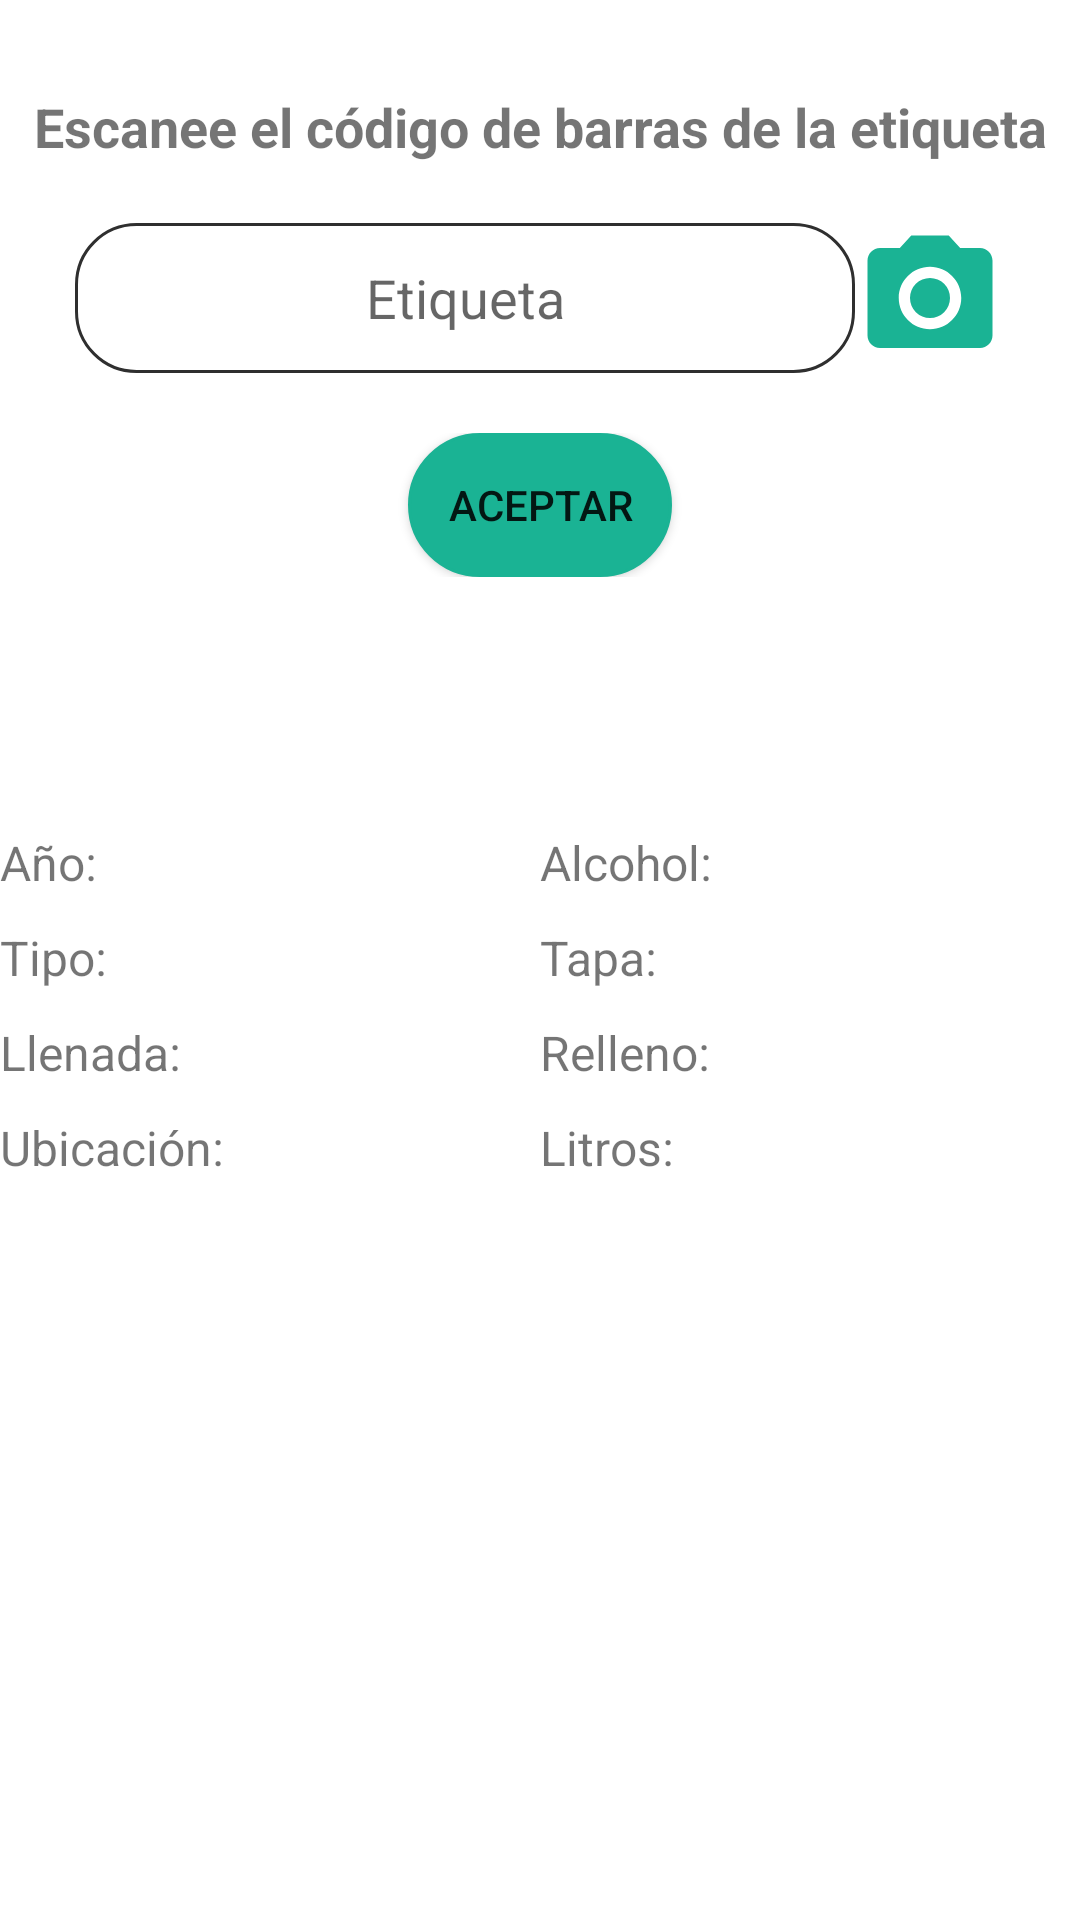

Named icons in this screenshot (1080x1920) and their bounding boxes, (x1, y1, x2, y2):
photo camera: (867, 235, 993, 348)
